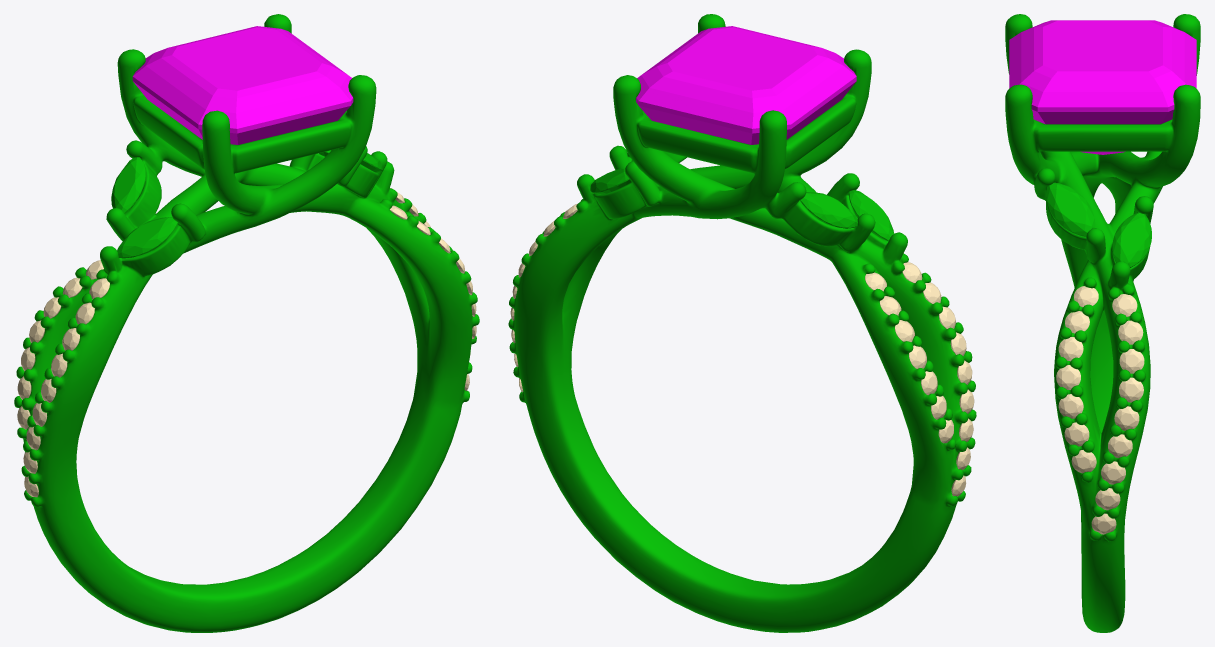
The model's file is BE1LCE1548_AS_200ct_RENDER.glb.
3 renders of one model, left to right at view 1: azimuth 30°, elevation 25°; view 2: azimuth 150°, elevation 25°; view 3: azimuth 270°, elevation 25°, orthographic.
Parts seen in each view (by area): view 1: Metal 01, CS_Diamond_Asscher, Emerald_Marquise_side.002, Emerald_Marquise_side.003; view 2: Metal 01, CS_Diamond_Asscher, Emerald_Marquise_side.003, Emerald_Marquise_side.002, Emerald_Marquise_side; view 3: Metal 01, CS_Diamond_Asscher, Emerald_Marquise_side.001, Emerald_Marquise_side, Diamond_Round_Gem_SH.004, Diamond_Round_Gem_SH.003, Diamond_Round_Gem_SH.005, Diamond_Round_Gem_SH.010, Diamond_Round_Gem_SH.002, Diamond_Round_Gem_SH.006, Diamond_Round_Gem_SH.009, Diamond_Round_Gem_SH.001 (+8 smaller).
Boxes of the visible parts, box(x1,y1,x2,y2) form: Metal 01: box(14, 14, 479, 632); CS_Diamond_Asscher: box(132, 26, 353, 144); Emerald_Marquise_side.002: box(117, 217, 177, 258); Emerald_Marquise_side.003: box(111, 157, 145, 213); Metal 01: box(508, 14, 976, 632); CS_Diamond_Asscher: box(636, 26, 856, 144); Emerald_Marquise_side.003: box(800, 191, 857, 228); Emerald_Marquise_side.002: box(848, 190, 894, 241); Emerald_Marquise_side: box(590, 168, 631, 194); Metal 01: box(1005, 14, 1200, 632); CS_Diamond_Asscher: box(1009, 20, 1196, 154); Emerald_Marquise_side.001: box(1046, 182, 1095, 236); Emerald_Marquise_side: box(1112, 212, 1151, 267); Diamond_Round_Gem_SH.004: box(1119, 377, 1143, 402); Diamond_Round_Gem_SH.003: box(1119, 349, 1144, 373); Diamond_Round_Gem_SH.005: box(1058, 394, 1083, 418); Diamond_Round_Gem_SH.010: box(1114, 406, 1139, 430); Diamond_Round_Gem_SH.002: box(1056, 365, 1080, 389); Diamond_Round_Gem_SH.006: box(1064, 422, 1089, 446); Diamond_Round_Gem_SH.009: box(1118, 320, 1143, 344); Diamond_Round_Gem_SH.001: box(1058, 337, 1083, 361).
Size of the model in its own units: 20.61 by 24.89 by 7.83.
